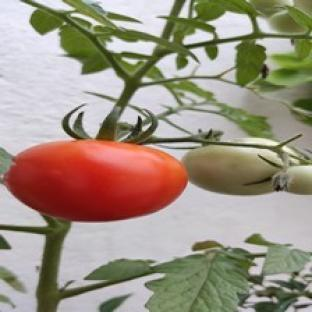Tomato: (5, 140, 188, 221), (183, 145, 282, 194), (268, 12, 306, 34), (286, 166, 311, 194)
